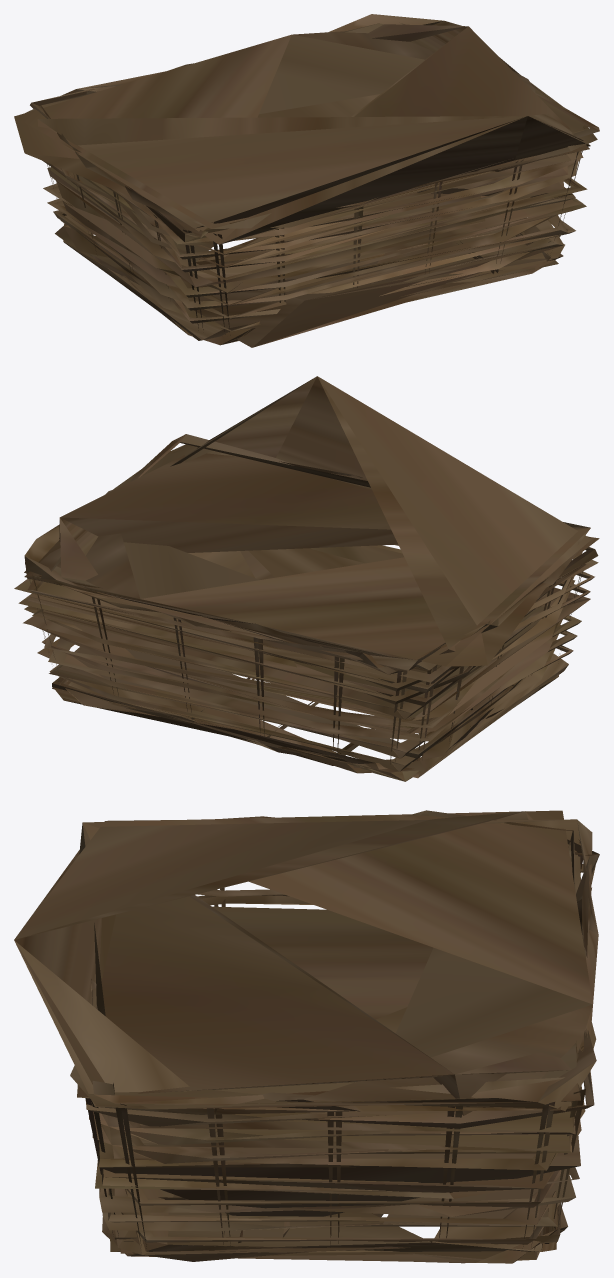
File: basket.glb
The picture shows the model from 3 angles, top to bottom: view 1: azimuth 30°, elevation 25°; view 2: azimuth 150°, elevation 25°; view 3: azimuth 270°, elevation 25°; orthographic projection. The views are drawn at different scales.
Visible parts, largest first — view 1: basket; view 2: basket; view 3: basket.
Boxes of the visible parts, x1,y1,x2,y2 form: basket: [14, 14, 599, 347]; basket: [14, 376, 599, 781]; basket: [14, 810, 599, 1263].
Size of the model in its own units: 0.4012 by 0.1688 by 0.326.
Materials: 1 (1 with a texture image).
